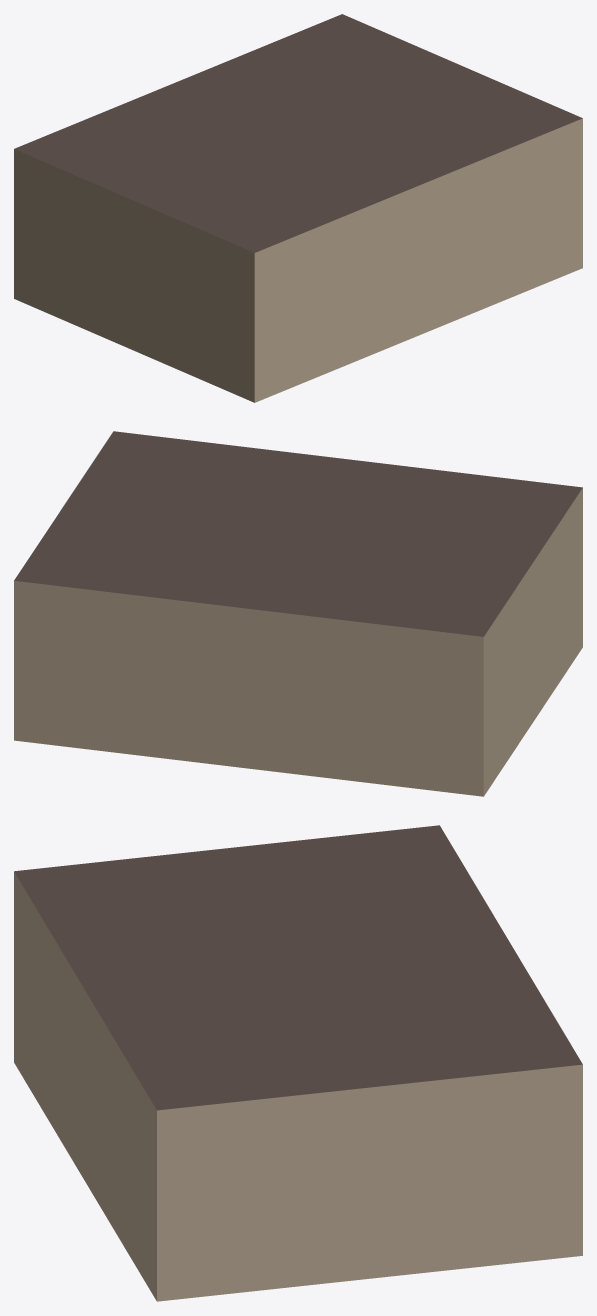
3 renders of one model, top to bottom at view 1: azimuth 30°, elevation 25°; view 2: azimuth 150°, elevation 25°; view 3: azimuth 270°, elevation 25°, orthographic. The views are drawn at different scales.
Visible parts, largest first — view 1: HP-w859424256; view 2: HP-w859424256; view 3: HP-w859424256.
Part boxes in pixels (x1=…): HP-w859424256: x1=14, y1=14, x2=582, y2=402; HP-w859424256: x1=14, y1=431, x2=582, y2=796; HP-w859424256: x1=14, y1=825, x2=582, y2=1301.
Size of the model in its own units: 28.79 by 9 by 24.27.
